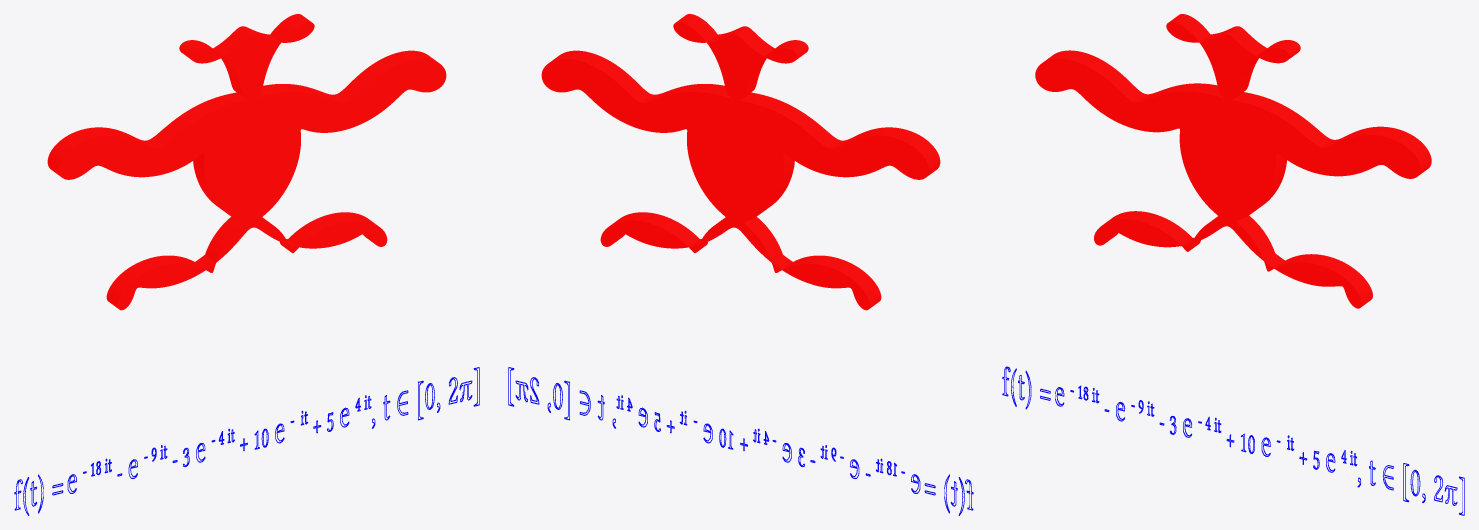
File: SimpleBeauty22.glb
3 renders of one model, left to right at view 1: azimuth 30°, elevation 25°; view 2: azimuth 150°, elevation 25°; view 3: azimuth 330°, elevation 25°, orthographic.
Size of the model in its own units: 1.2 by 1.07 by 0.05.
